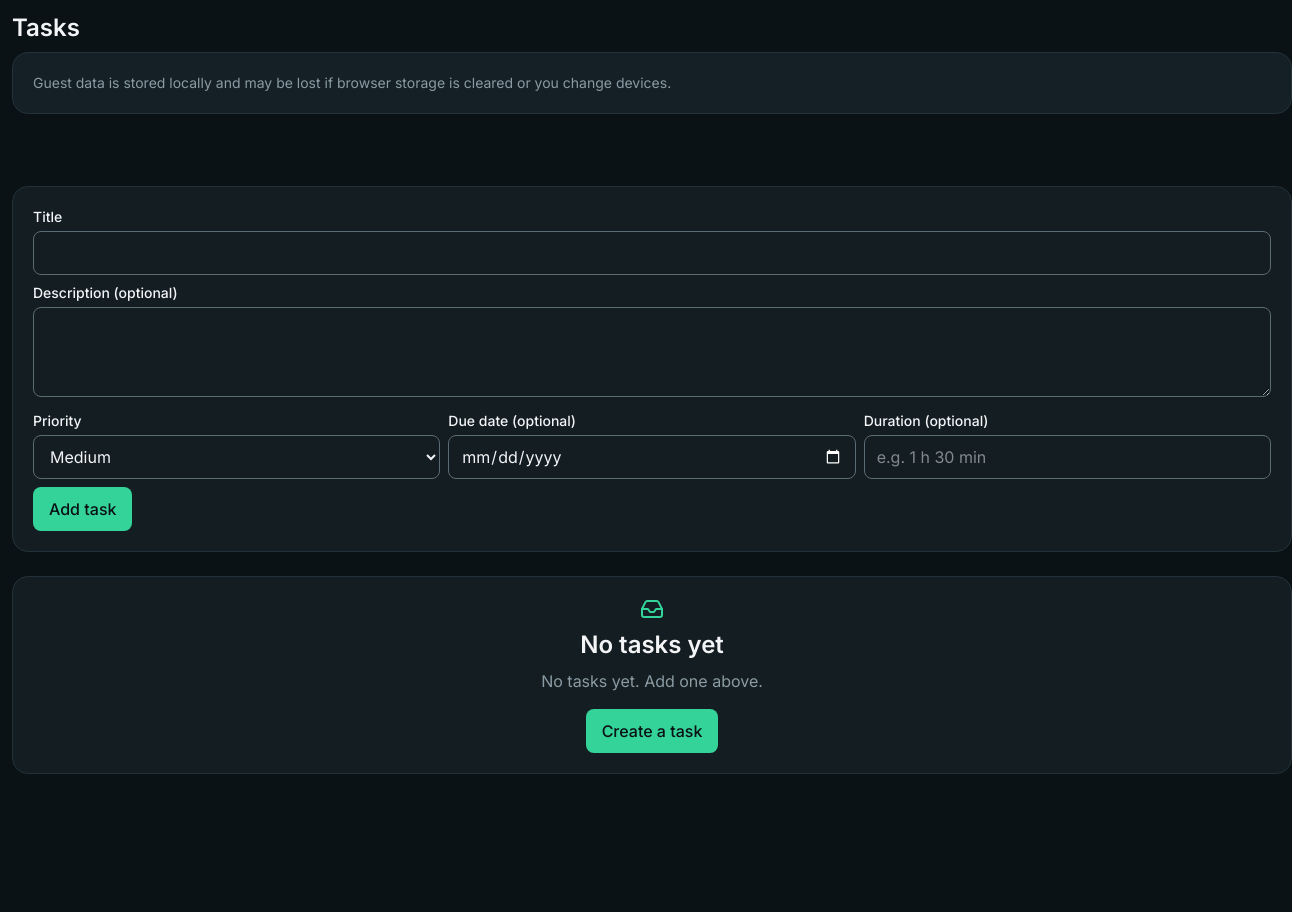
Test case: task completion › moves focus to the completion control after regrouping
Type "Focus task" into the field labelled "Title". click: {"x": 652, "y": 253}
box: [33,231,1271,275]
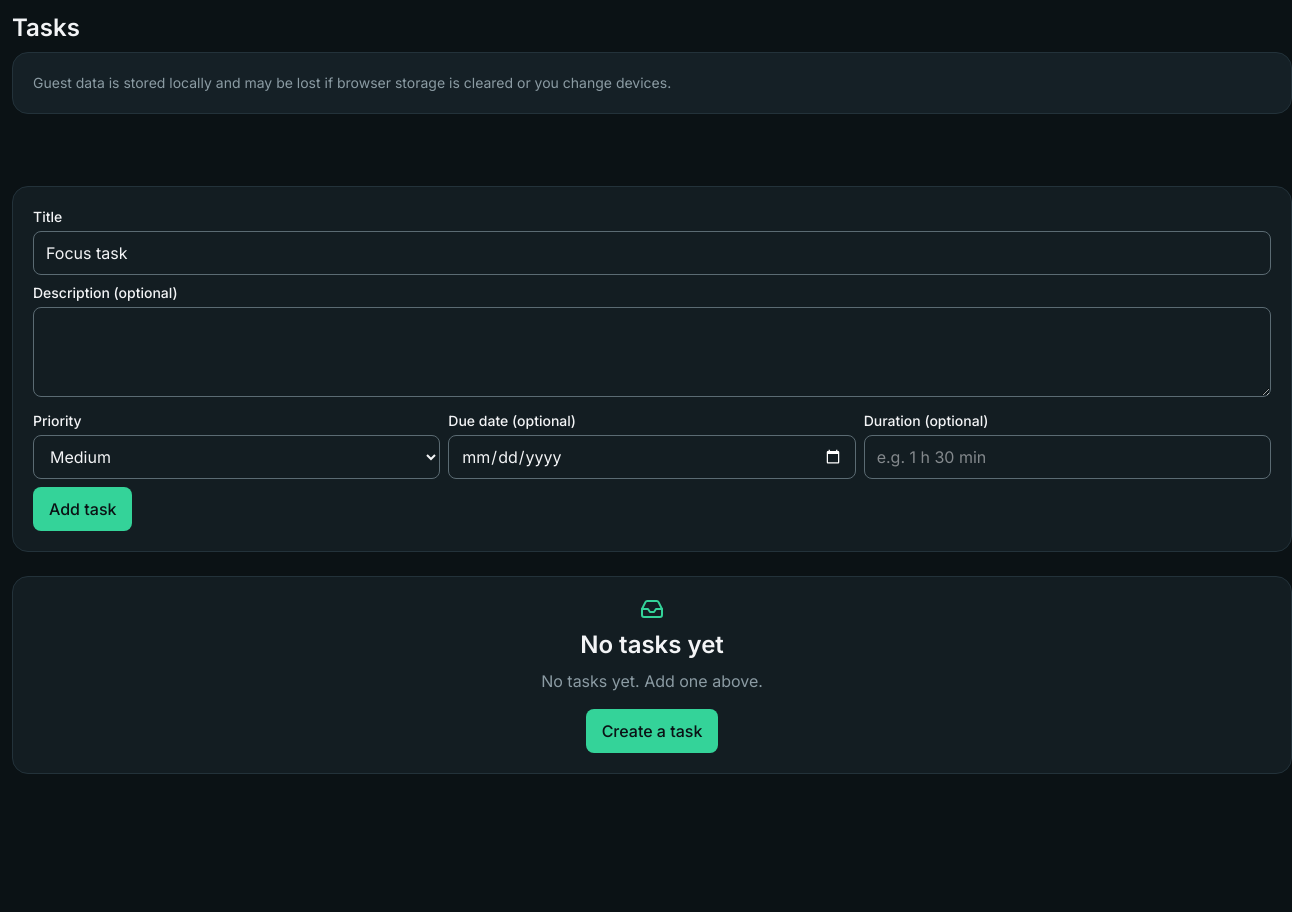
Click the button "Add task". click: {"x": 83, "y": 509}
box: [33,487,132,531]
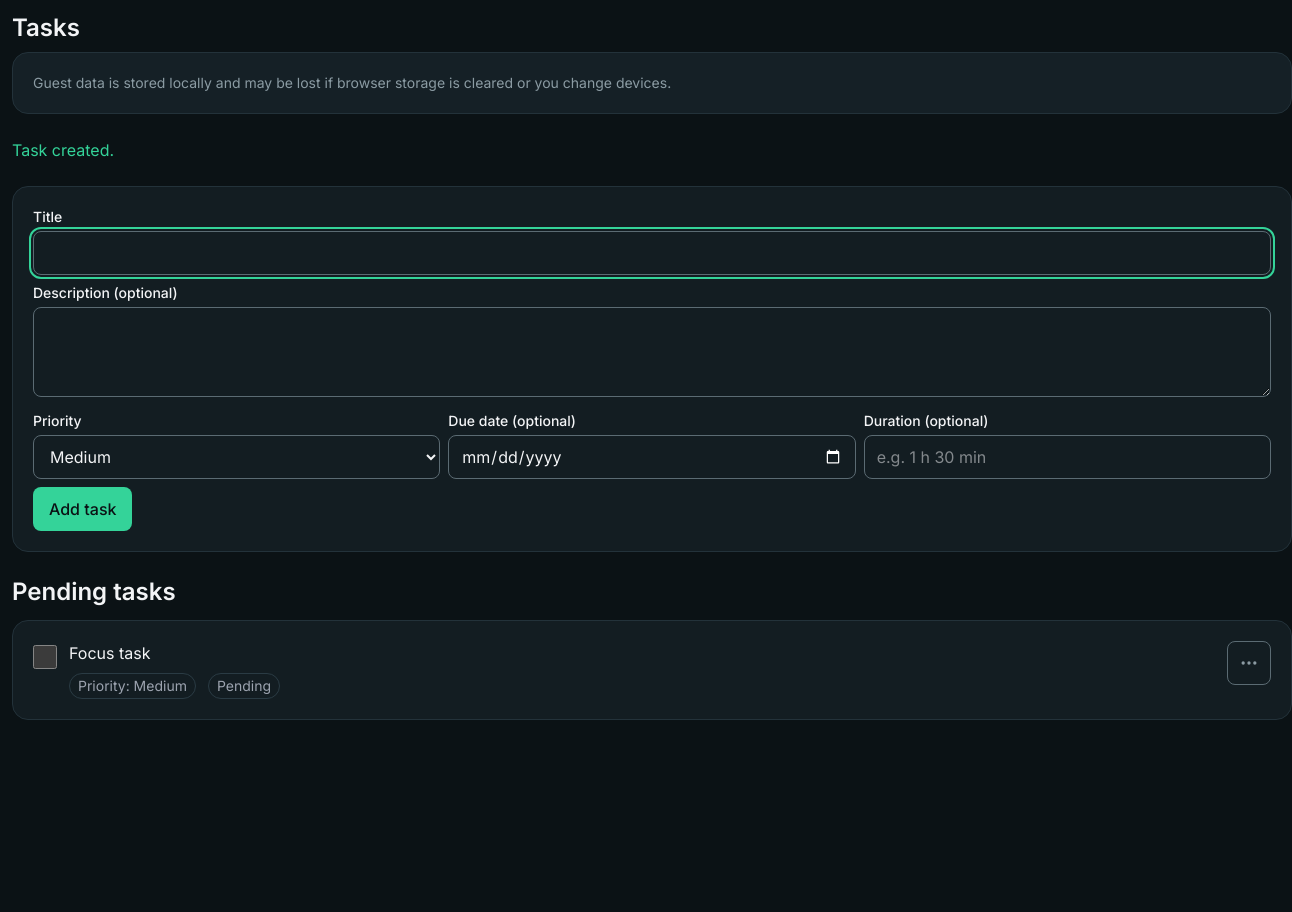
Result: the text "Focus task" is shown at [69,643,150,663]
Click the checkbox named "Mark Focus task complete". click: {"x": 45, "y": 657}
box: [33,645,57,669]
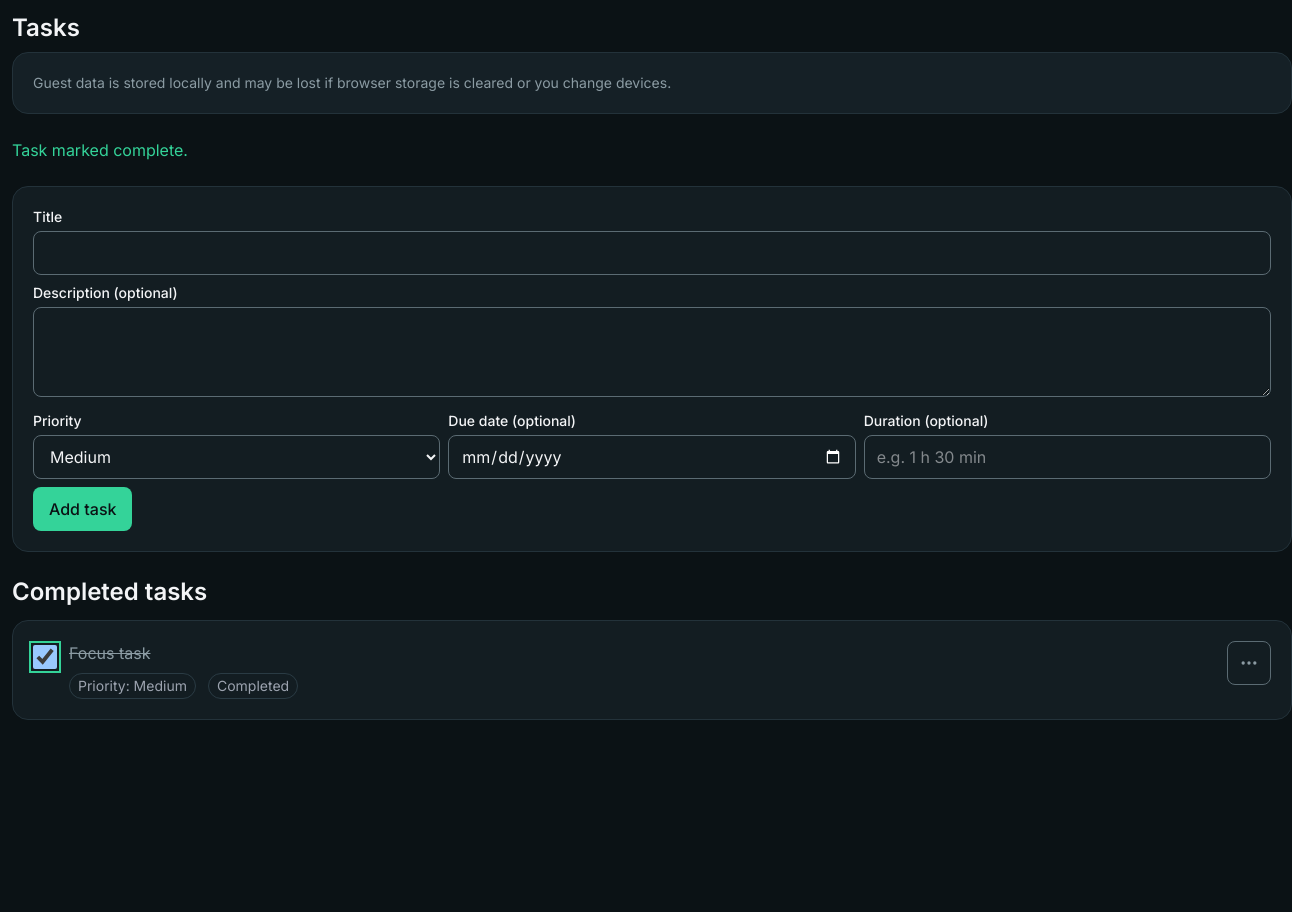
Result: the text "Focus task" is shown at [69,643,150,663]
Result: the element "Completed tasks" is shown at [12,576,1291,720]
